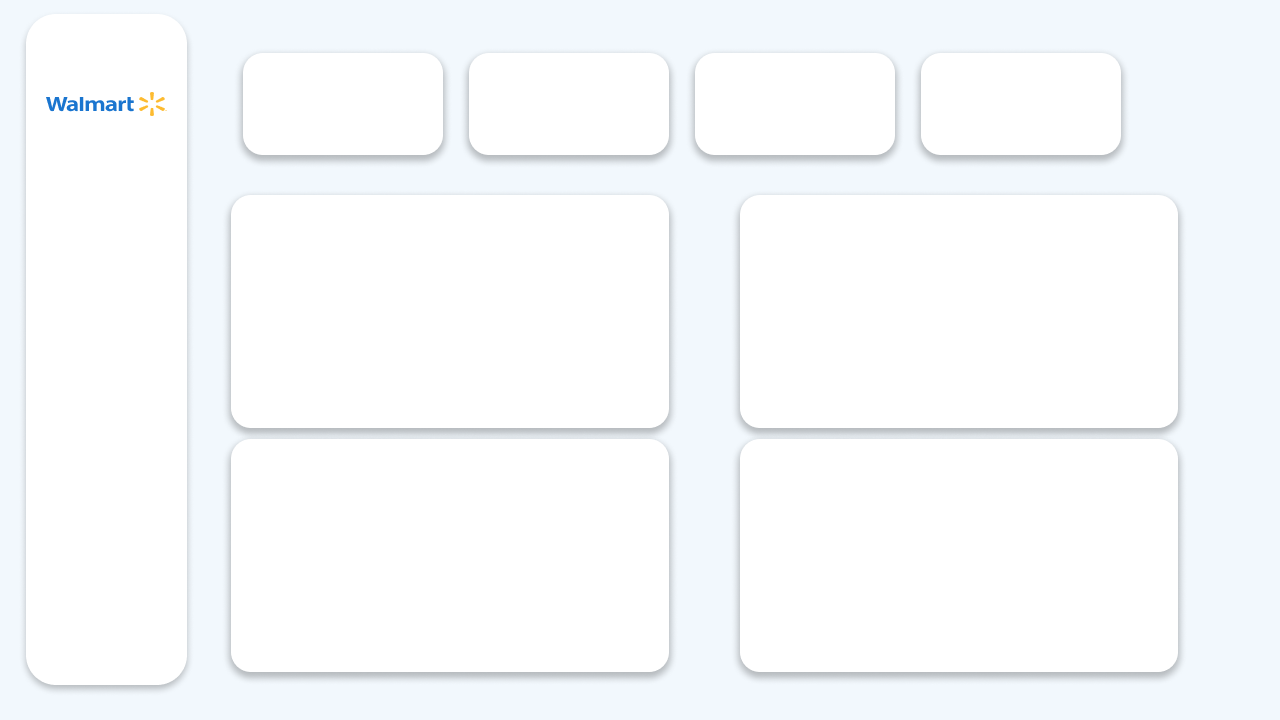

The dashboard page shown, as its layout file describes it:
{"tool":"powerbi","page":{"name":"Synthèse Globale","canvas":[1280,720],"ordinal":0},"visuals":[{"type":"card","fields":{"Values":["Mesures.TotalRevenue"]},"box":[262.4,64.4,154.7,75.5],"z":0},{"type":"card","fields":{"Values":["Mesures.Total Profit Margin"]},"box":[476.6,59.4,183.2,85.4],"z":1},{"type":"card","fields":{"Values":["Mesures.Profit Margin %"]},"box":[716.8,64.4,154.7,76.8],"z":2},{"type":"card","fields":{"Values":["Mesures.Total Transactions"]},"box":[928.4,64.4,185.7,75.5],"z":3},{"type":"lineChart","title":"Total Revenue par Mois (nom)","fields":{"Y":["Mesures.TotalRevenue"],"Category":["DimCalendar.Mois (nom)"]},"box":[240.2,196.8,419.7,234],"z":4},{"type":"clusteredColumnChart","title":"Total Revenue par category","fields":{"Category":["walmart_clean_data.category"],"Y":["Mesures.TotalRevenue"]},"box":[742.7,208,453.1,212.9],"z":5},{"type":"clusteredBarChart","title":"Total Revenue par City","fields":{"Category":["walmart_clean_data.City"],"Y":["Mesures.TotalRevenue"]},"box":[253.8,439.5,394.9,230.3],"z":6},{"type":"donutChart","fields":{"Y":["Mesures.Total Transactions"],"Category":["walmart_clean_data.payment_method"]},"box":[741.5,439.5,435.7,230.3],"z":7},{"type":"slicer","title":"Filtre","fields":{"Values":["DimCalendar.Hiérarchie date.Année","DimCalendar.Hiérarchie date.Mois (nom)"]},"box":[34,196.6,141.9,76.9],"z":8},{"type":"slicer","title":"Category","fields":{"Values":["walmart_clean_data.category"]},"box":[29.6,313.3,150.8,73.9],"z":9}]}

Visuals, with their boxes in screenshot pixels (x1, y1, x2, y2), scaled from the page's 1280x720 canvas onto the 1280x720 screenshot:
card - Mesures.TotalRevenue: bbox=[262, 64, 417, 140]
card - Mesures.Total Profit Margin: bbox=[477, 59, 660, 145]
card - Mesures.Profit Margin %: bbox=[717, 64, 872, 141]
card - Mesures.Total Transactions: bbox=[928, 64, 1114, 140]
"Total Revenue par Mois (nom)" lineChart: bbox=[240, 197, 660, 431]
"Total Revenue par category" clusteredColumnChart: bbox=[743, 208, 1196, 421]
"Total Revenue par City" clusteredBarChart: bbox=[254, 440, 649, 670]
donutChart - Mesures.Total Transactions x walmart_clean_data.payment_method: bbox=[742, 440, 1177, 670]
"Filtre" slicer: bbox=[34, 197, 176, 274]
"Category" slicer: bbox=[30, 313, 180, 387]
